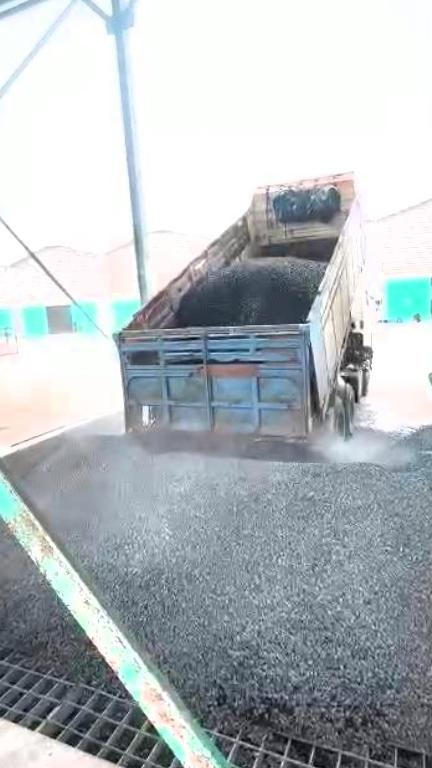gravel: (13, 403, 432, 757), (0, 490, 106, 679), (182, 261, 323, 325)
sand: (0, 388, 54, 444)
